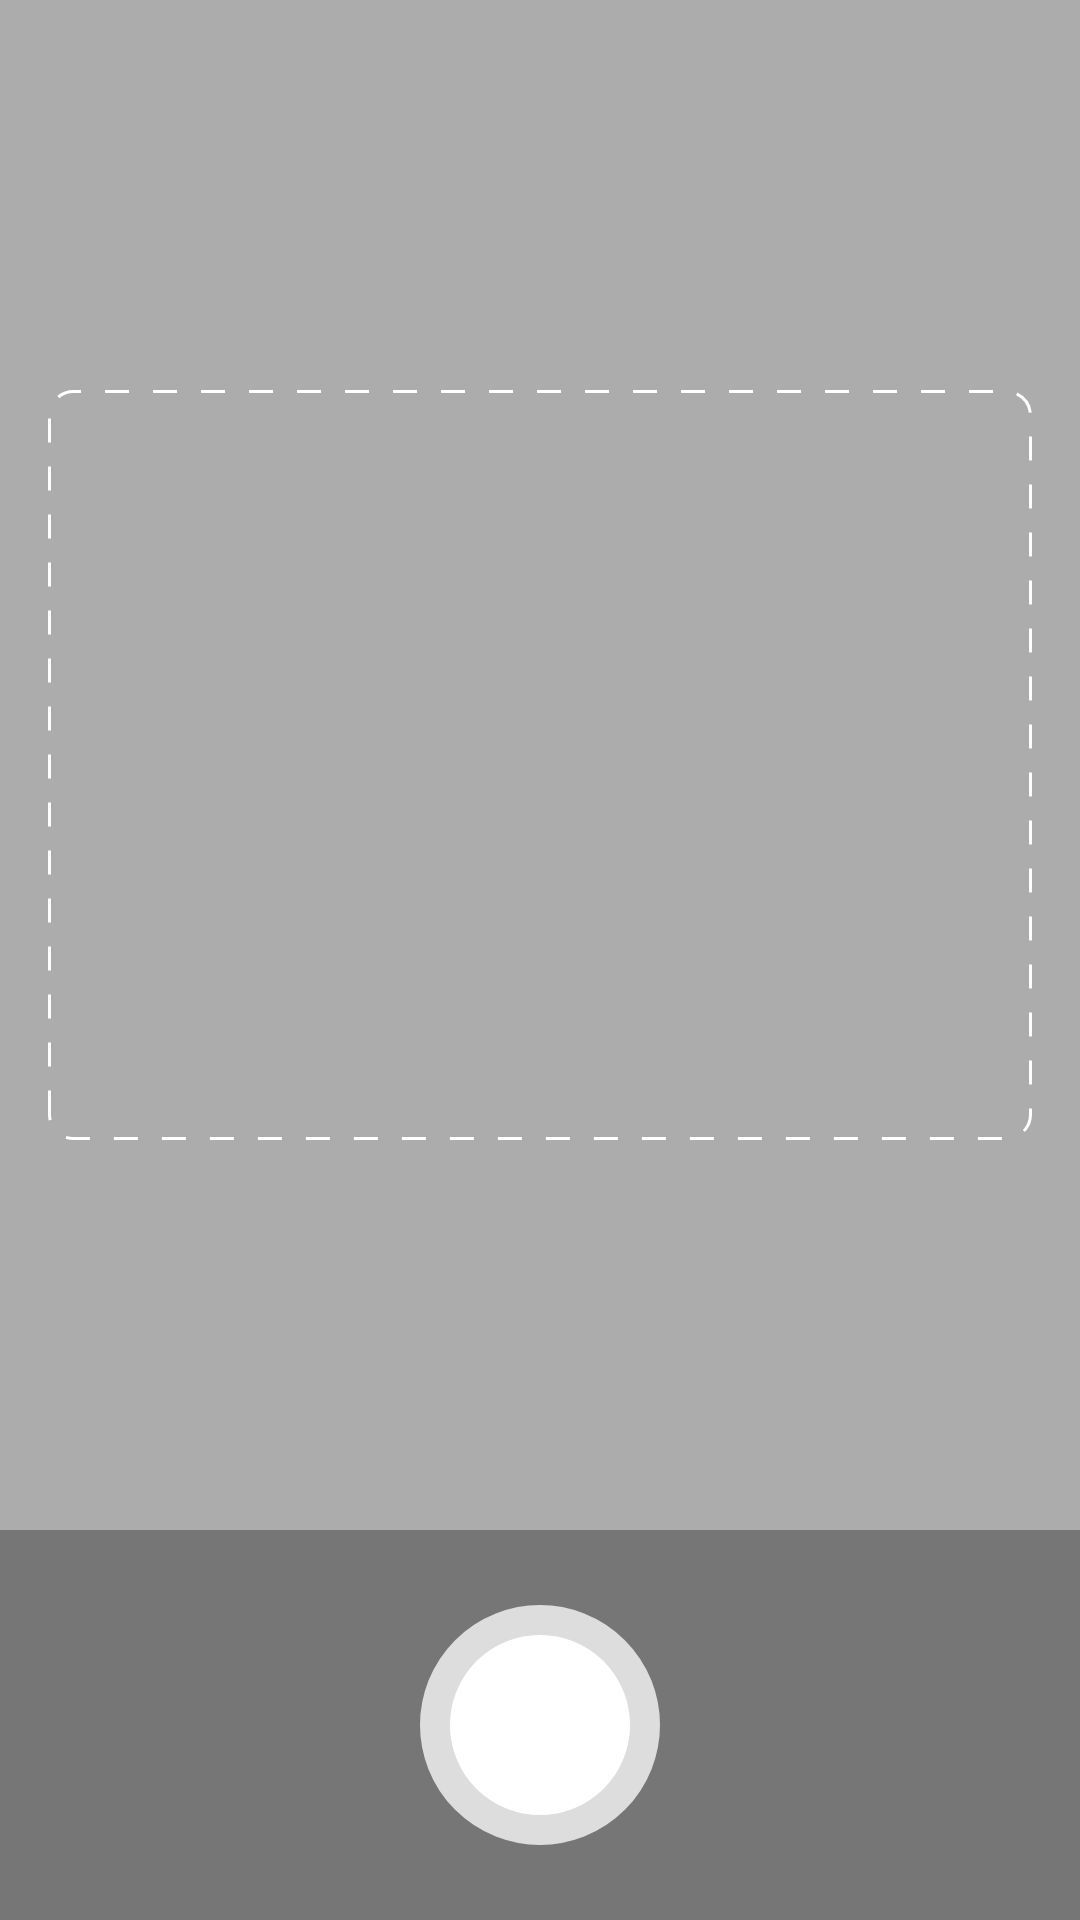

Locate icon controls on the screen. Image size 1080×1920, boxes as (x1, y1, x2, y2).
capture: (420, 1605, 660, 1845)
